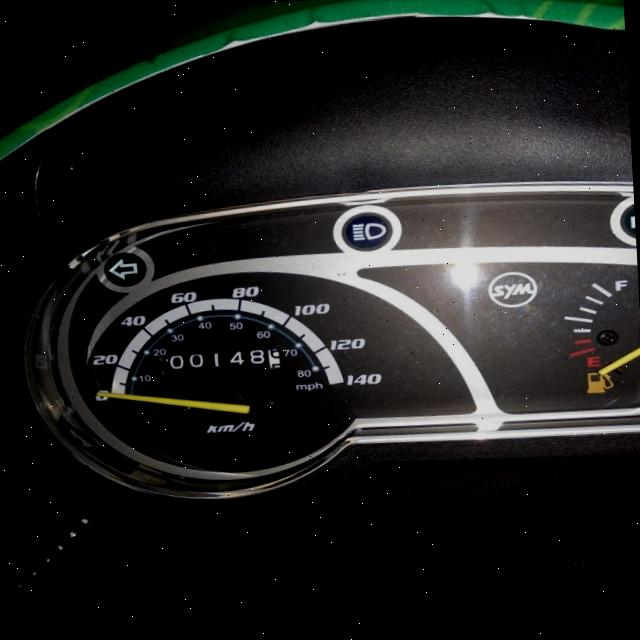odometer: (156, 347, 282, 378)
